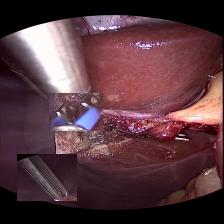Bipolar: (49, 92, 103, 130)
Grasper: (18, 153, 78, 200)
